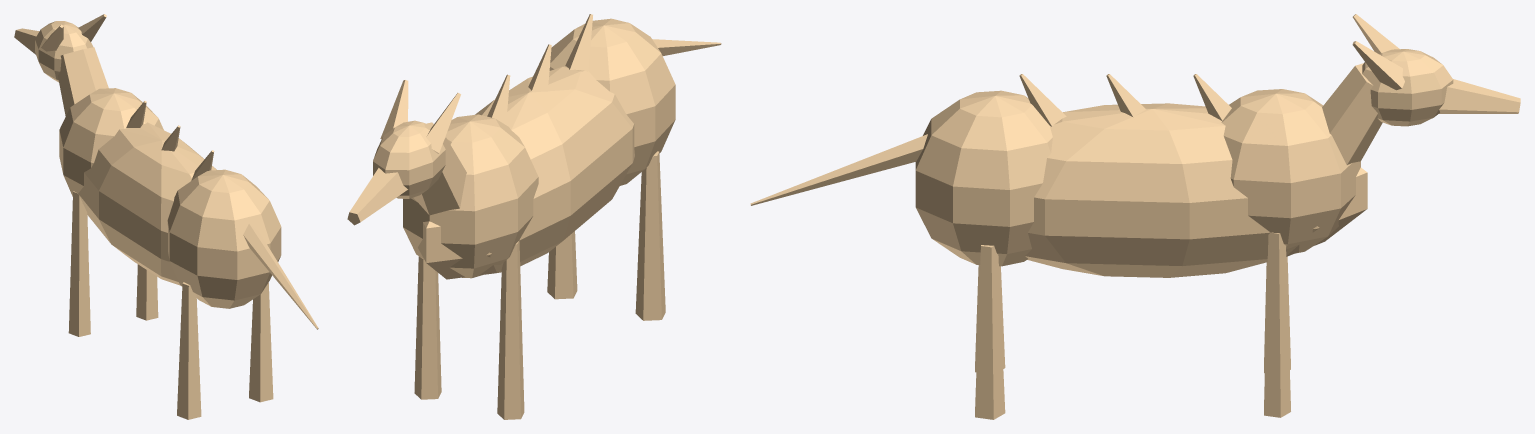
The model's file is gloamhound.glb.
3 views of the same model, side by side, from view 1: azimuth 30°, elevation 25°; view 2: azimuth 150°, elevation 25°; view 3: azimuth 270°, elevation 25° (orthographic). The views are drawn at different scales.
Visible parts, largest first — view 1: hound; view 2: hound; view 3: hound.
Part boxes in pixels (x1,y1,x2,y2): hound: [14, 14, 318, 419]; hound: [347, 14, 721, 419]; hound: [750, 14, 1520, 419].
Bounding box in the file's own units: 0.4321 × 1.2 × 2.3.
